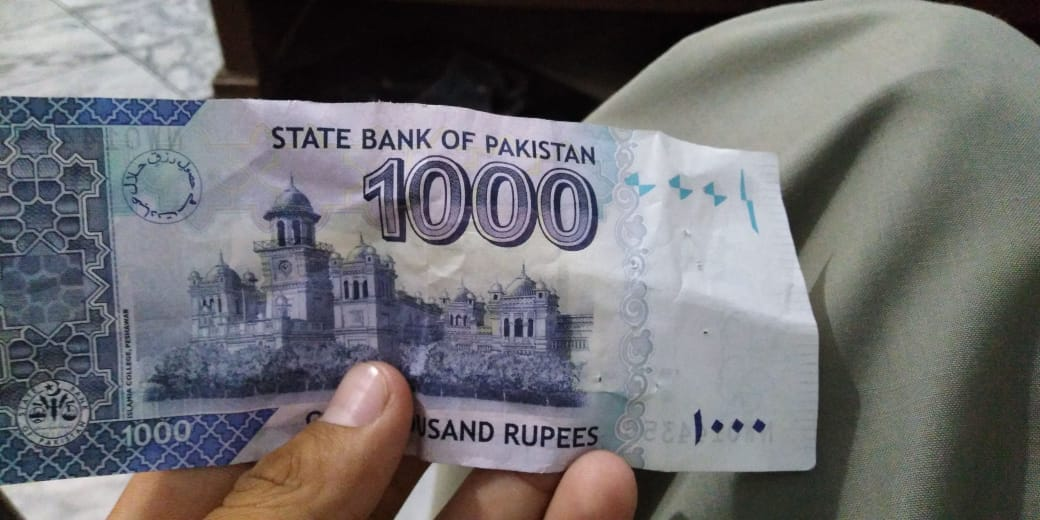1000 rupee: (5, 68, 822, 479)
